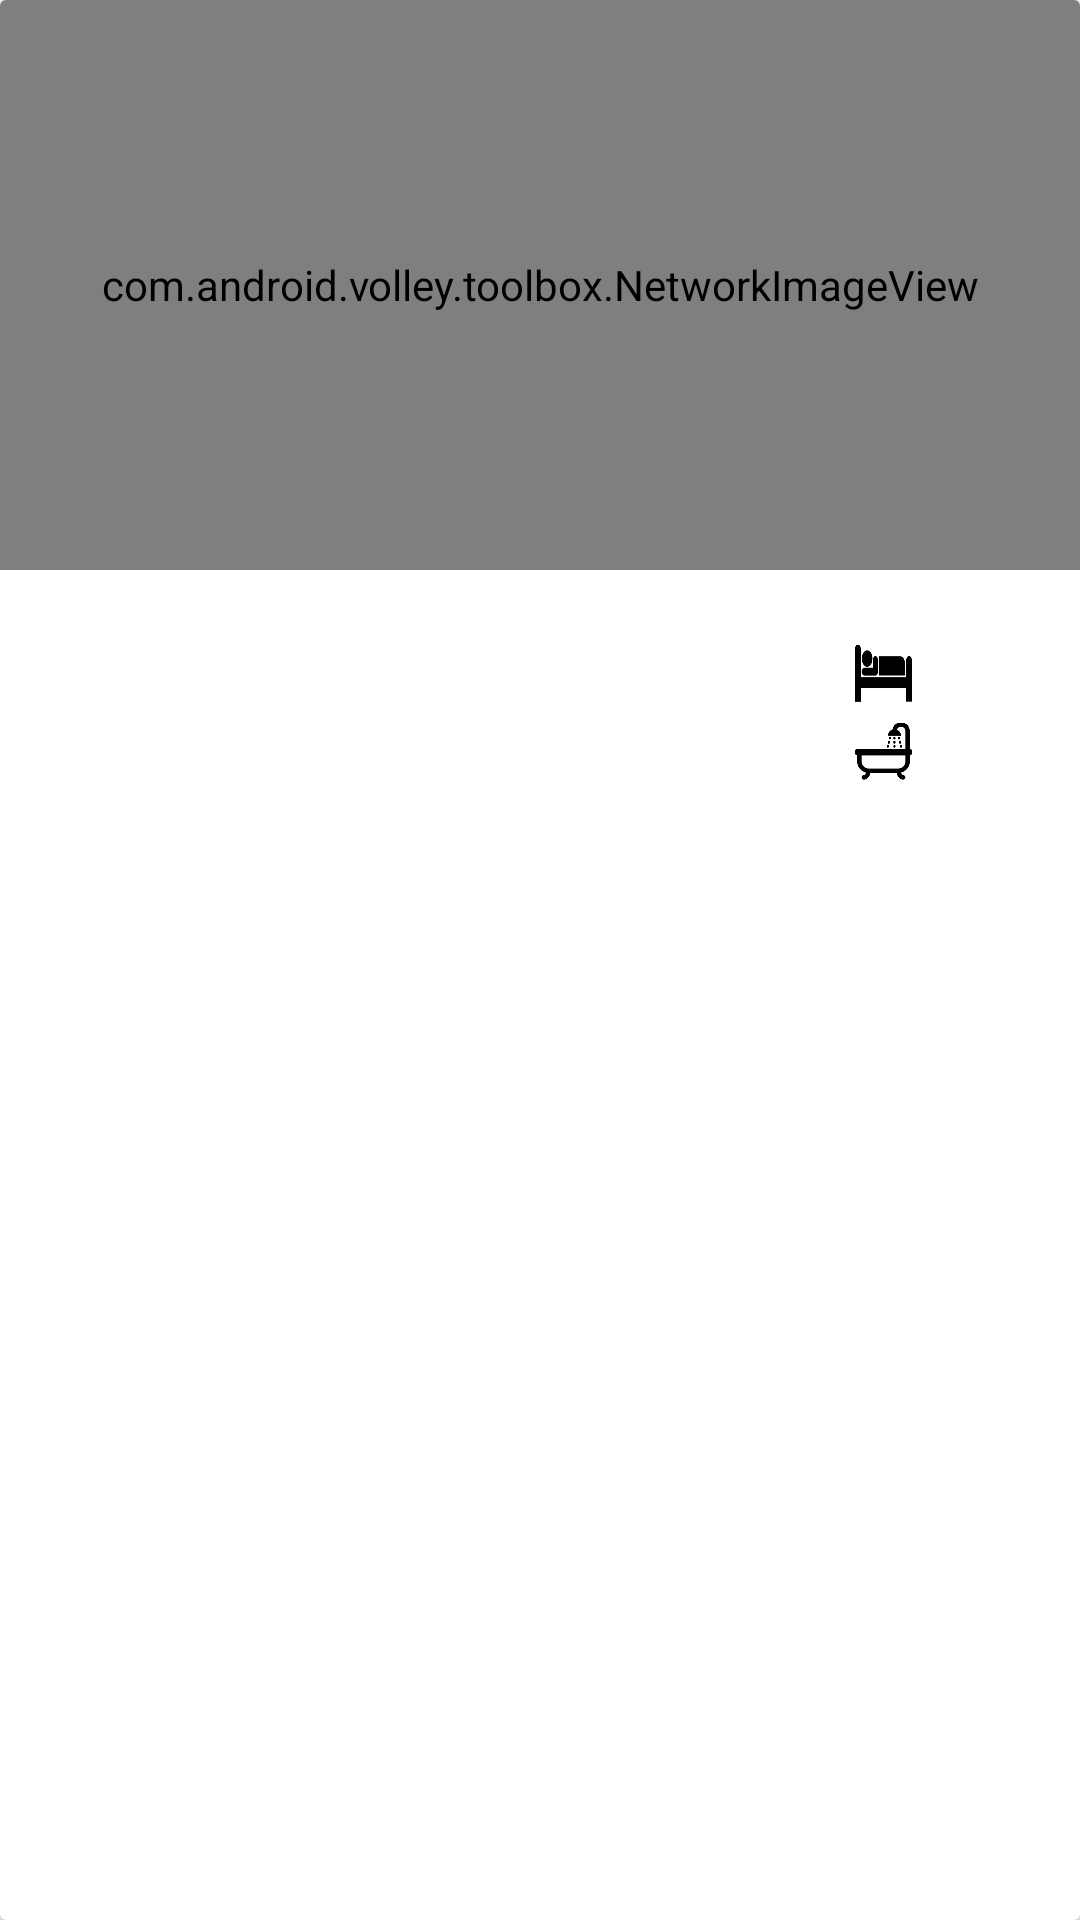

Locate icon controls on the screen. Image size 1080×1920, boxes as (x1, y1, x2, y2).
bath: (855, 723, 912, 780)
bed: (855, 645, 912, 702)
